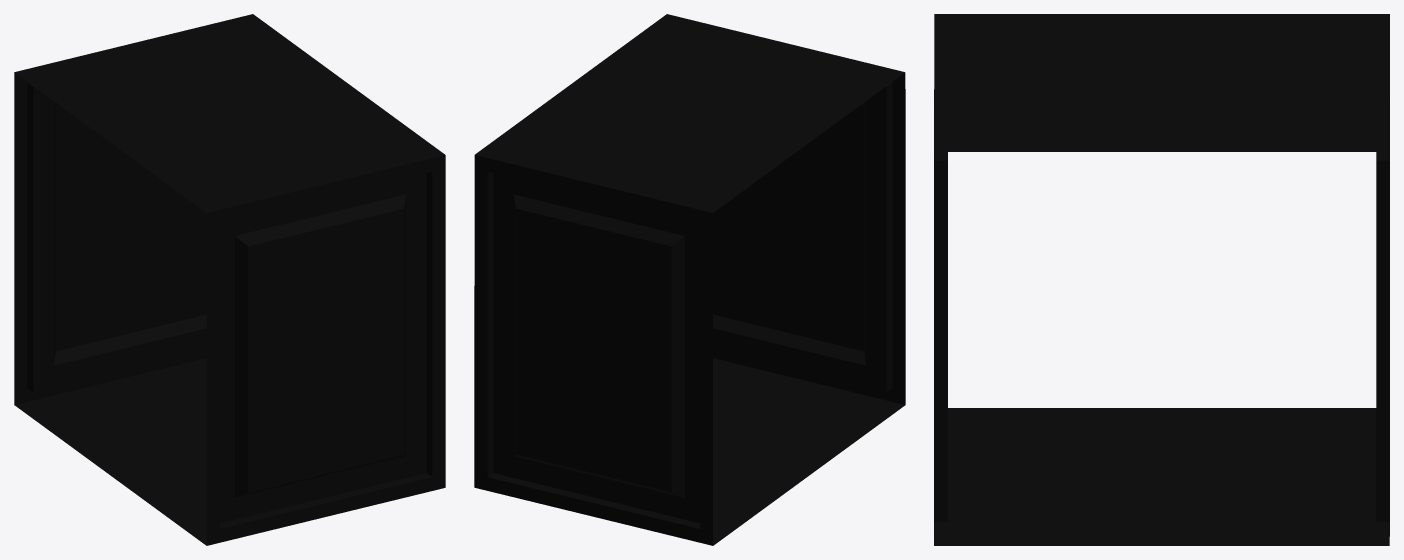
Rendered from Itr_Diningtable_Body_Middle_05.FBX.
The picture shows the model from 3 angles, left to right: view 1: azimuth 30°, elevation 25°; view 2: azimuth 150°, elevation 25°; view 3: azimuth 270°, elevation 25°; orthographic projection. The views are drawn at different scales.
Visible parts, largest first — view 1: Itr_Diningtable_Body_Middle_05; view 2: Itr_Diningtable_Body_Middle_05; view 3: Itr_Diningtable_Body_Middle_05.
Part boxes in pixels (x1,y1,x2,y2): Itr_Diningtable_Body_Middle_05: (14,14,445,545); Itr_Diningtable_Body_Middle_05: (474,14,905,545); Itr_Diningtable_Body_Middle_05: (934,14,1389,545).
Size of the model in its own units: 24.71 by 32.91 by 34.5.
